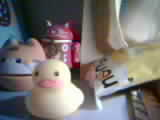duck: (22, 52, 96, 113)
